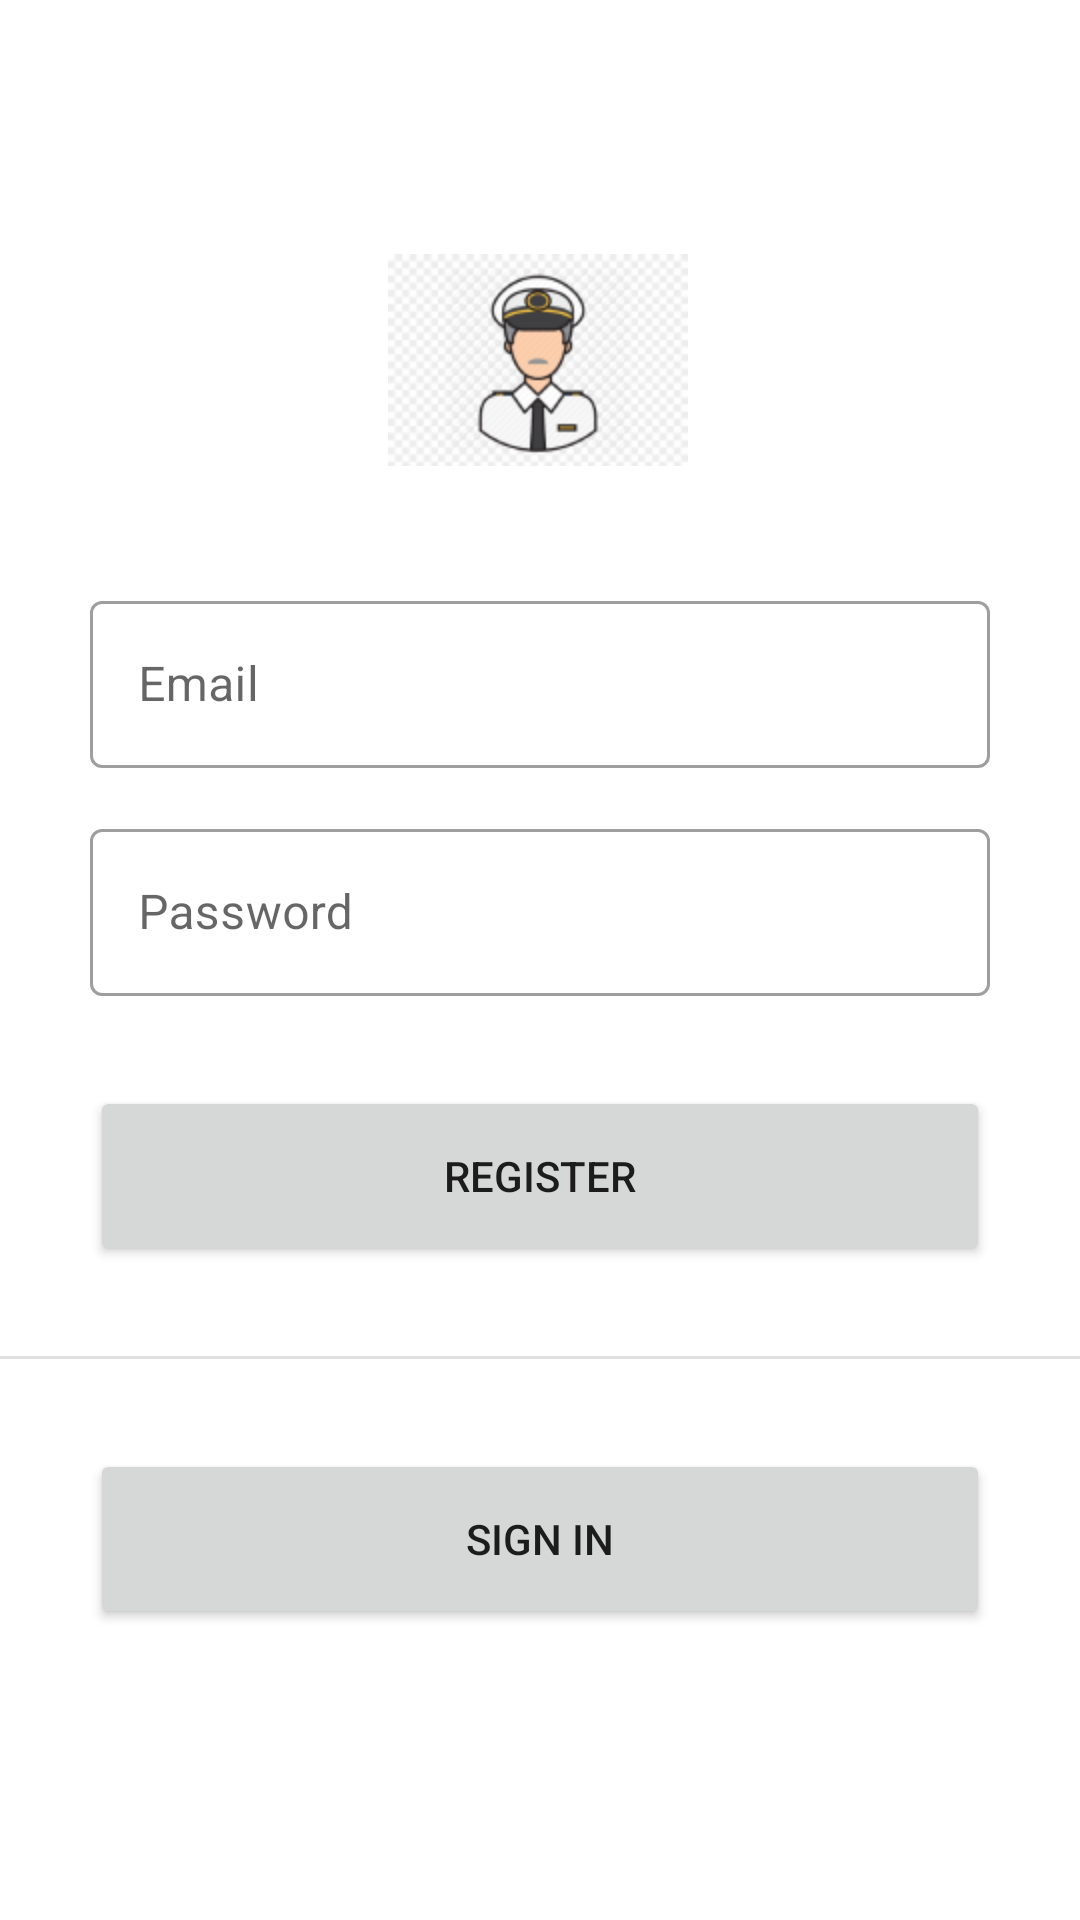

Icons on this 1080px×1920px Android screen, each with the point to tap as [x,y]:
captain: [538,363]
